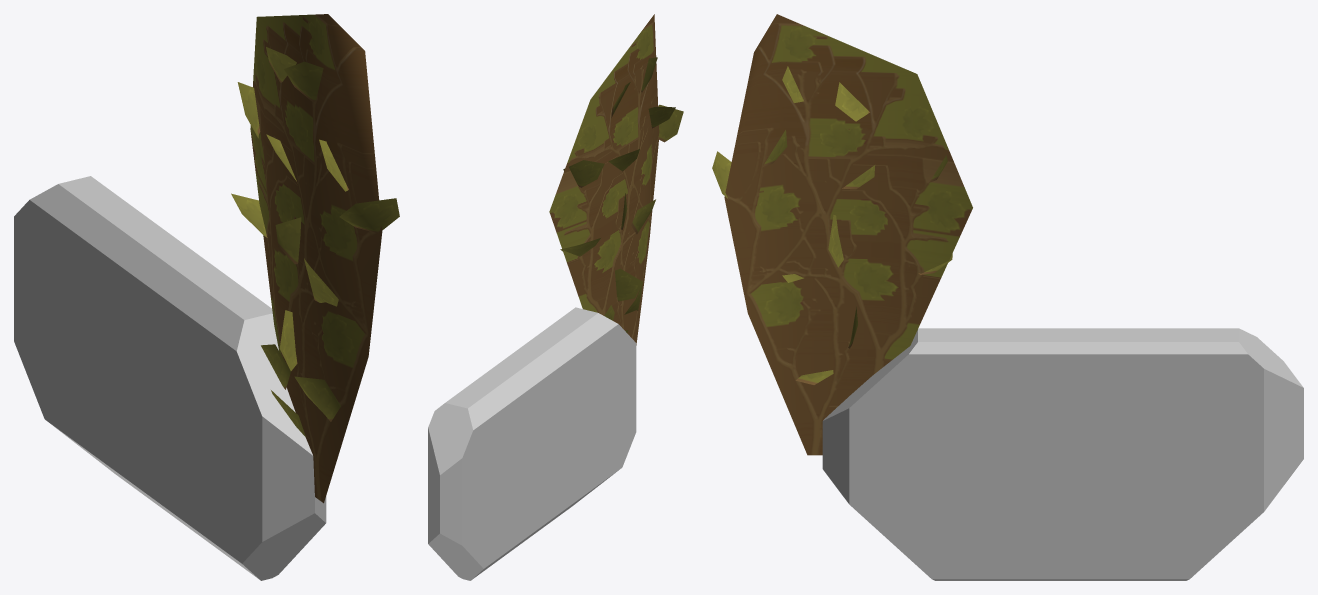
The model's file is SM_vine_05.fbx.
3 views of the same model, side by side, from view 1: azimuth 30°, elevation 25°; view 2: azimuth 150°, elevation 25°; view 3: azimuth 270°, elevation 25° (orthographic). The views are drawn at different scales.
Parts seen in each view (by area): view 1: SM_vine_05_ConvexHulls, SM_vine_05; view 2: SM_vine_05_ConvexHulls, SM_vine_05; view 3: SM_vine_05_ConvexHulls, SM_vine_05.
Boxes of the visible parts, <box> form: SM_vine_05_ConvexHulls: <box>14,176,326,580</box>; SM_vine_05: <box>231,14,399,503</box>; SM_vine_05_ConvexHulls: <box>428,307,636,580</box>; SM_vine_05: <box>549,14,683,345</box>; SM_vine_05_ConvexHulls: <box>822,328,1303,580</box>; SM_vine_05: <box>712,14,972,455</box>.
Size of the model in its own units: 57.79 by 571 by 588.
2 materials, 1 textured.
